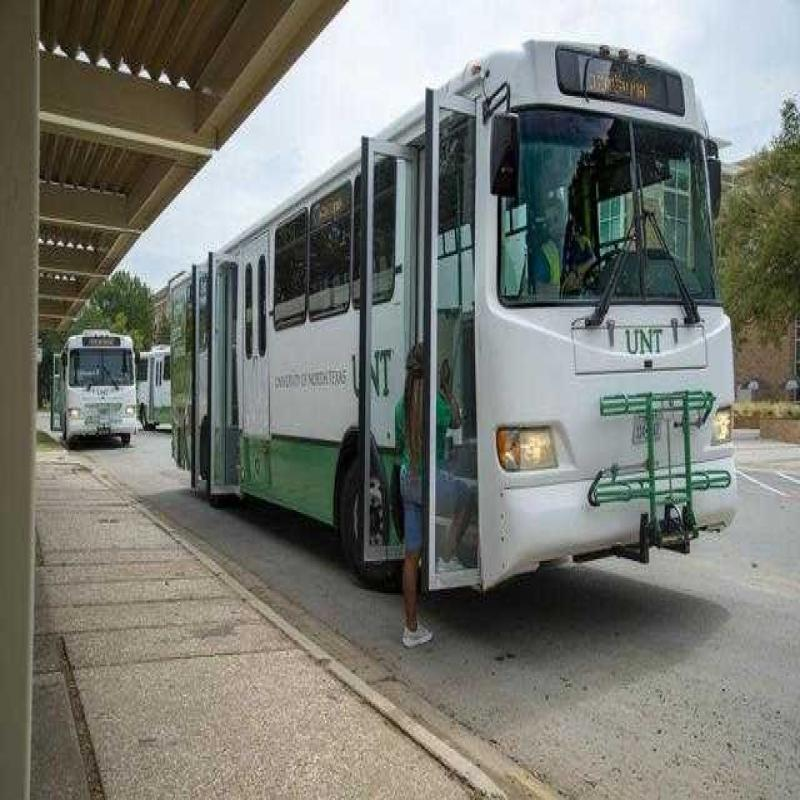bus: (162, 27, 756, 615)
